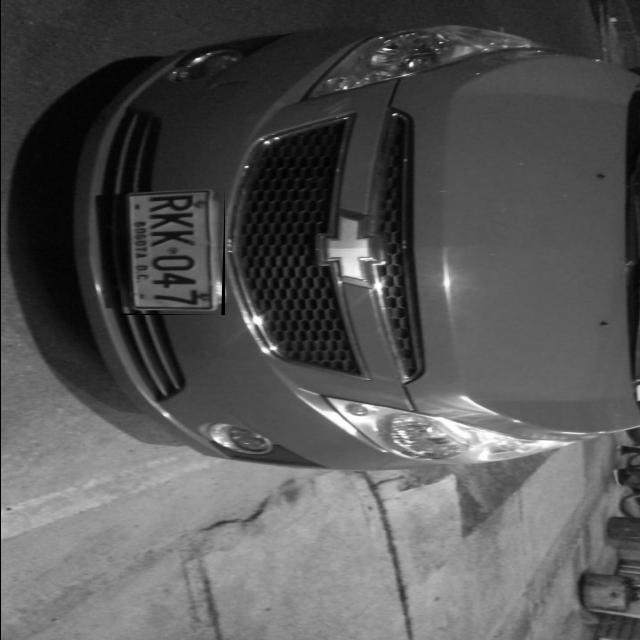plate: (120, 188, 220, 314)
